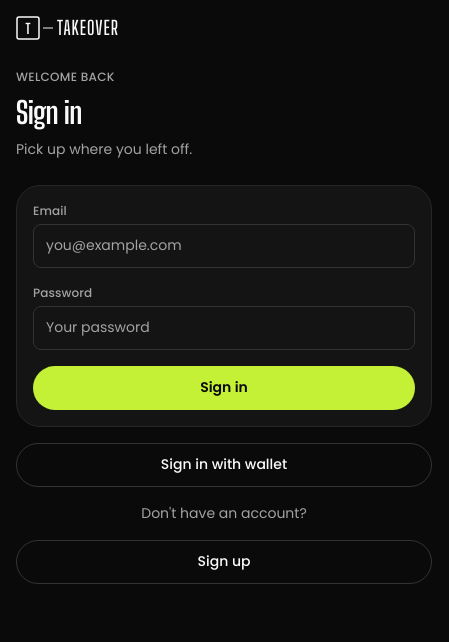
Test: Login screen › shows the generic server message on failure and links to signup
Type "a@b.c" into the field labelled "Email".
click(224, 246); type("a@b.c")  # box [33,224,415,268]
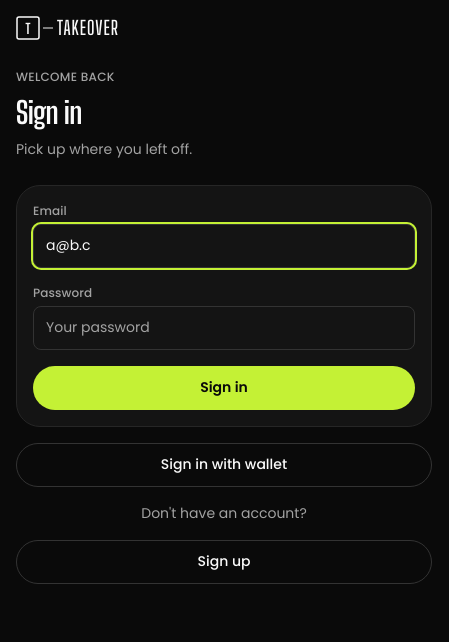
Type "wrong-password" into the password field labelled "Password".
click(224, 328); type("wrong-password")  # box [33,306,415,350]
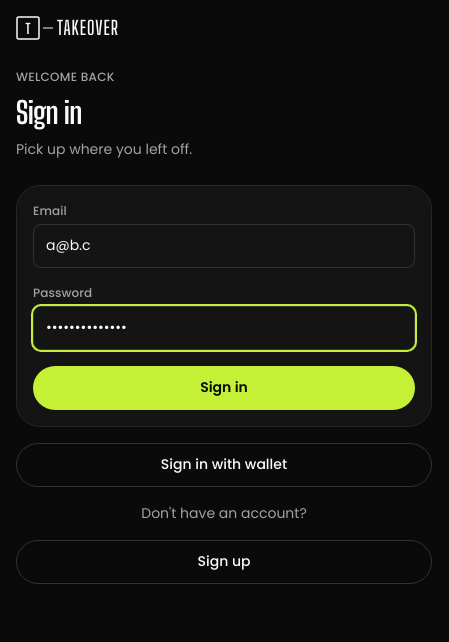
Click the button "Sign in".
click(224, 388)  # box [33,366,415,410]
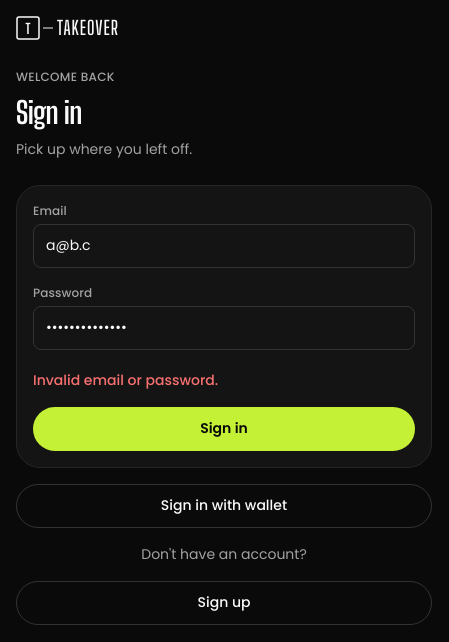
Expected: the link "Sign up" is shown, [16,581,432,625]
Expected: the text "Invalid email or password." is shown, [33,370,218,390]
